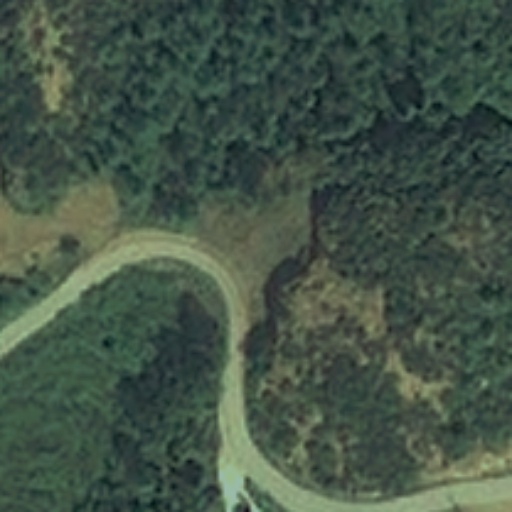landslide: (277, 256, 390, 343)
